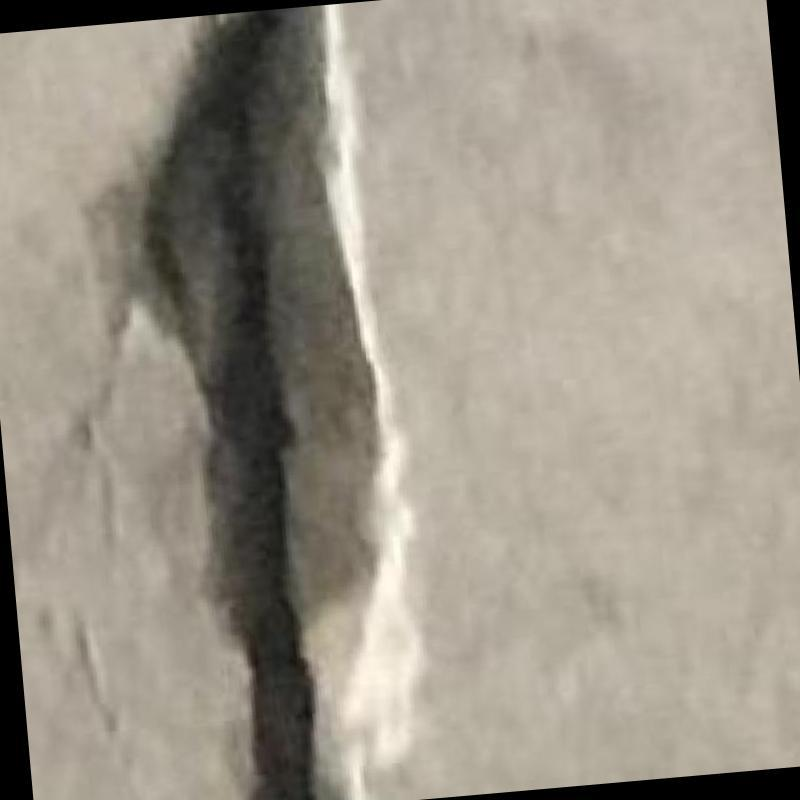pothole: (142, 8, 314, 800)
